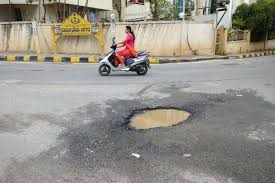Pothole: (113, 100, 200, 139)
